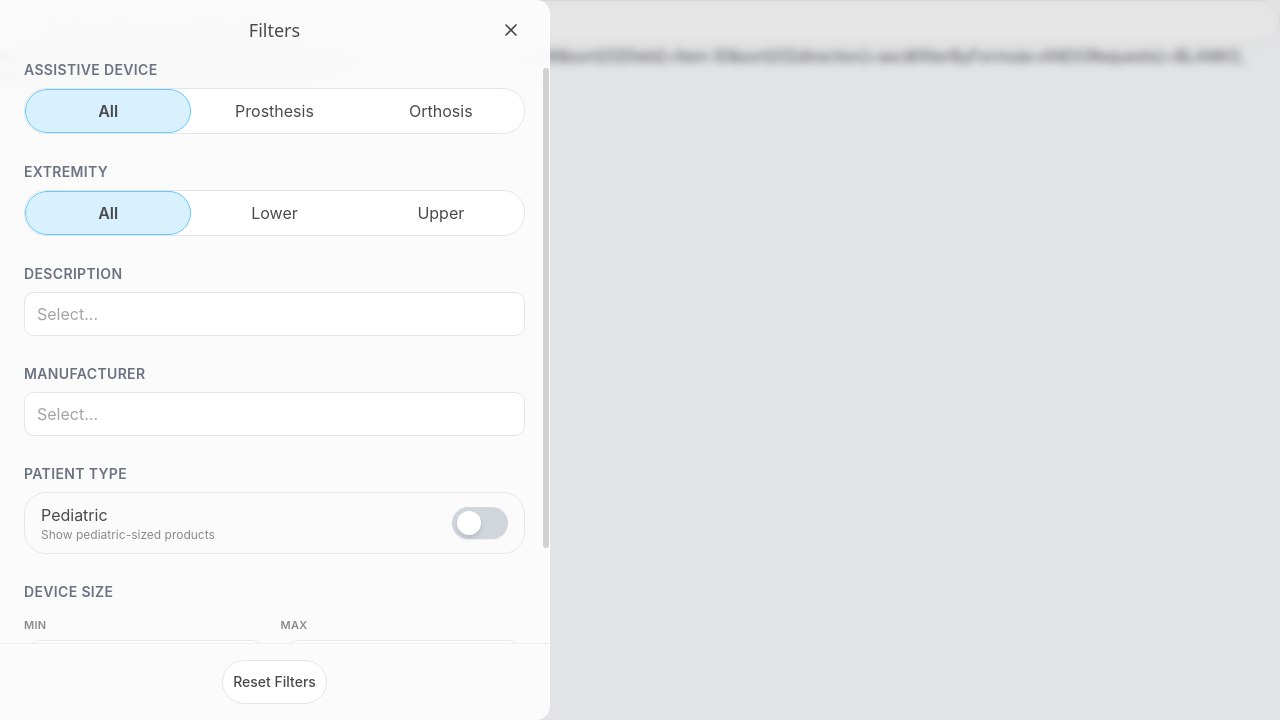
Filter integration → Airtable query › orthosis hides the Extremity filter and drops any extremity condition
Check: the text "Assistive Device" is shown, box [24,61,158,78]
Click the button "Prosthesis" at (274, 111), box [191,89,358,133]
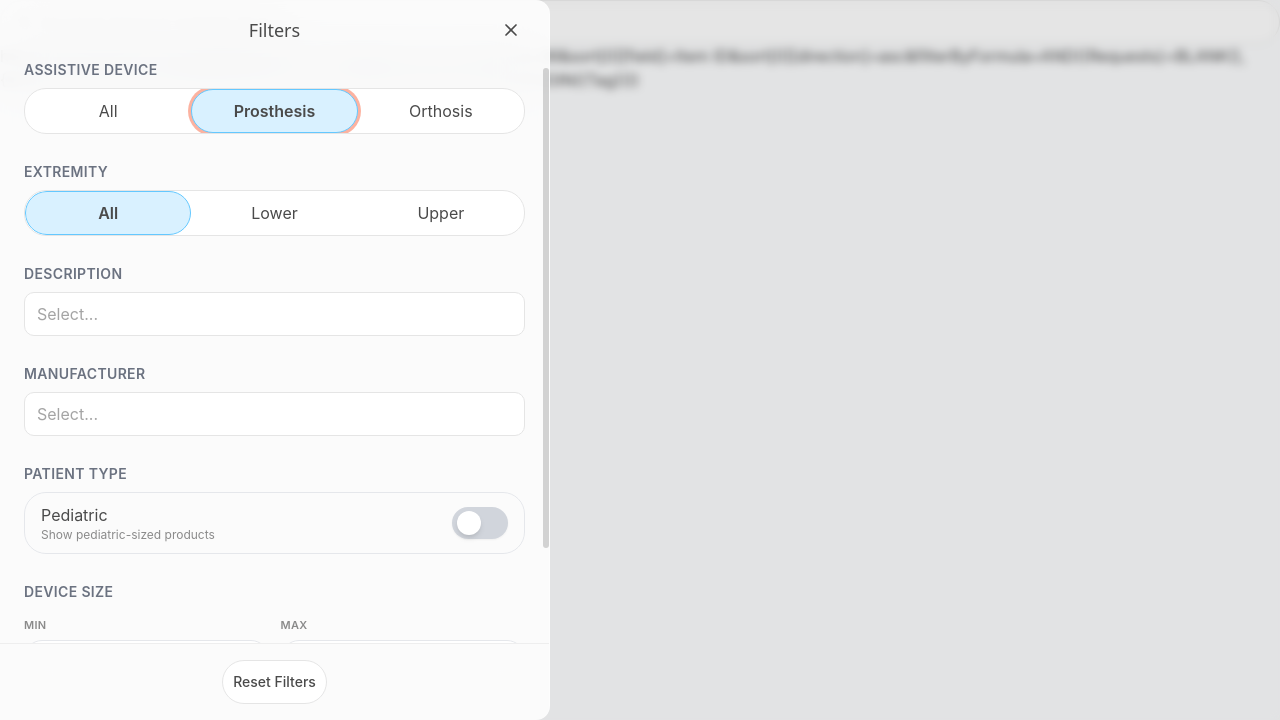
Check: the text "Extremity" is shown, box [24,163,108,180]
Click the button "Lower" at (274, 213), box [191,191,358,235]
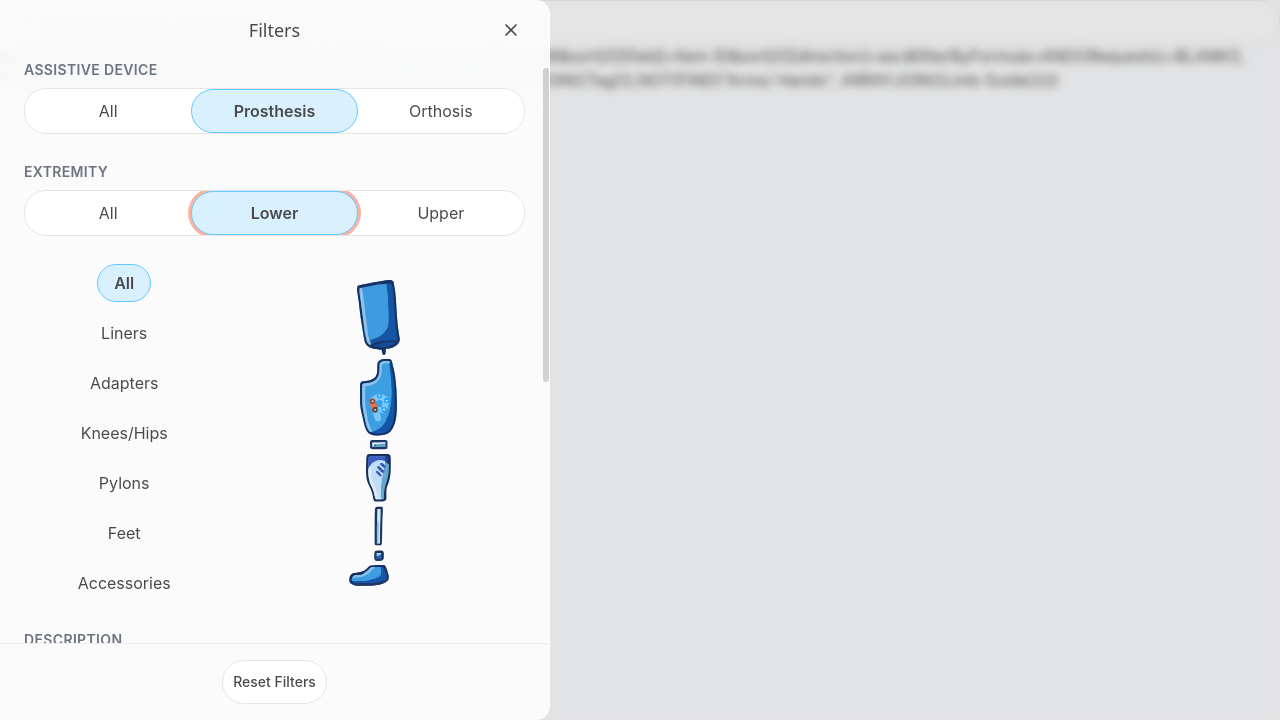
Check: the text with test id "query" shows "NOT(FIND(\"Arms/ Hands\", ARRAYJOIN({Limb Guide})))", box [0,46,1245,90]
Click the button "Orthosis" at (441, 111), box [358,89,524,133]
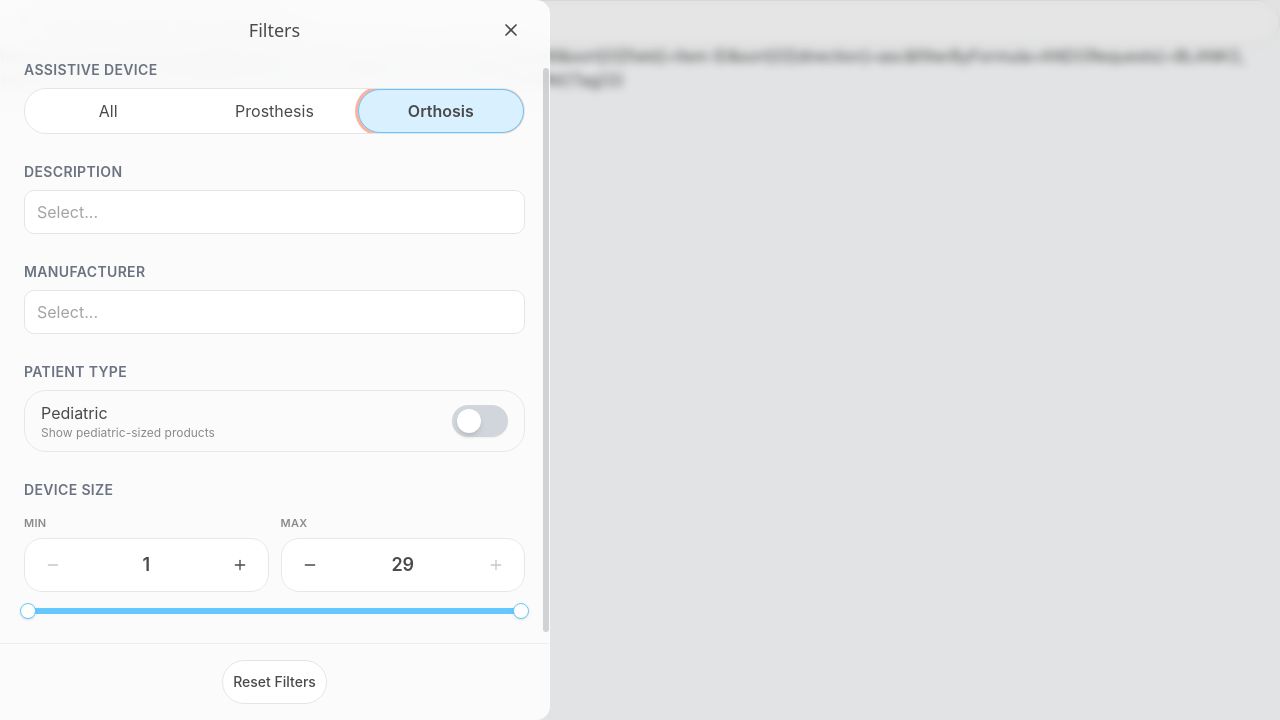
Check: the text "Extremity" is gone
Check: the text with test id "query" shows "FIND(\"Orthosis\", ARRAYJOIN({Tag}))", box [0,46,1245,90]
Check: the text with test id "query" no longer shows "Arms/ Hands"
